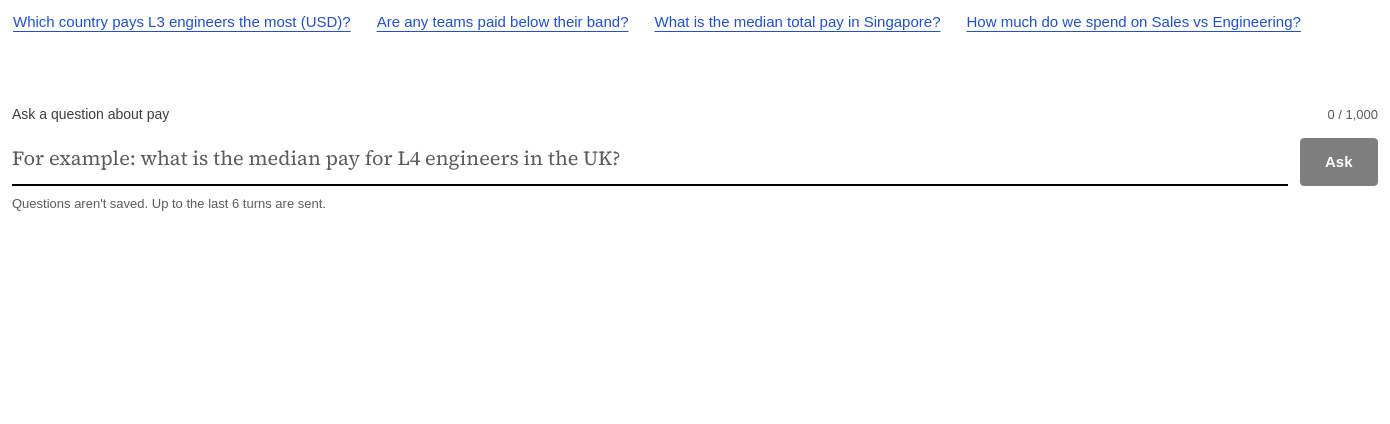
AskChat › shows that it is working while the answer is on its way
This screenshot has width=1390, height=424.
Clear the text box labelled "Ask a question about pay" at (650, 159), box 12,132 -> 1288,186
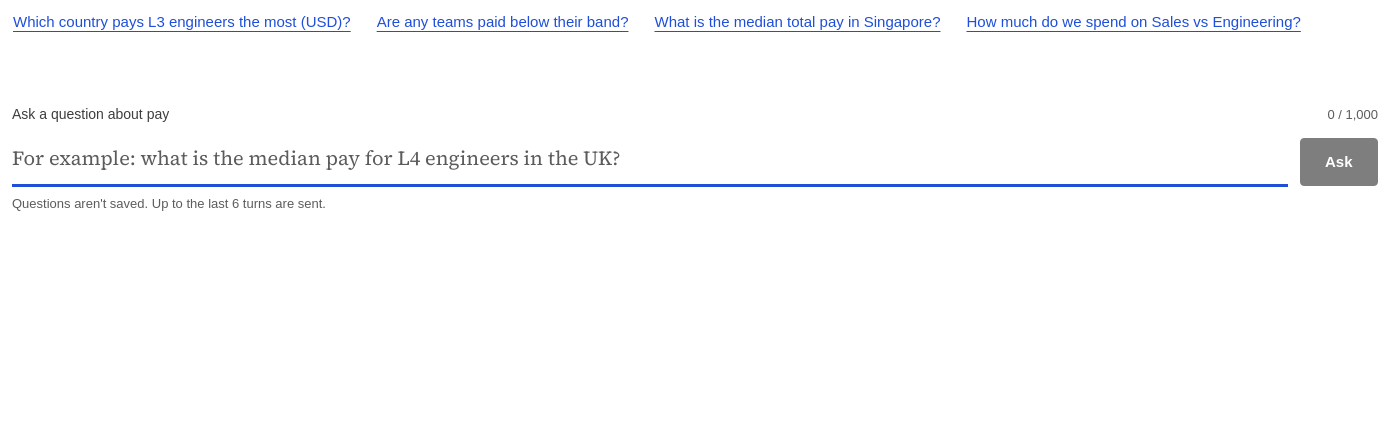
Type "Are we underpaying anyone in Germany?" into the text box labelled "Ask a question about pay" at (650, 160), box 12,132 -> 1288,187
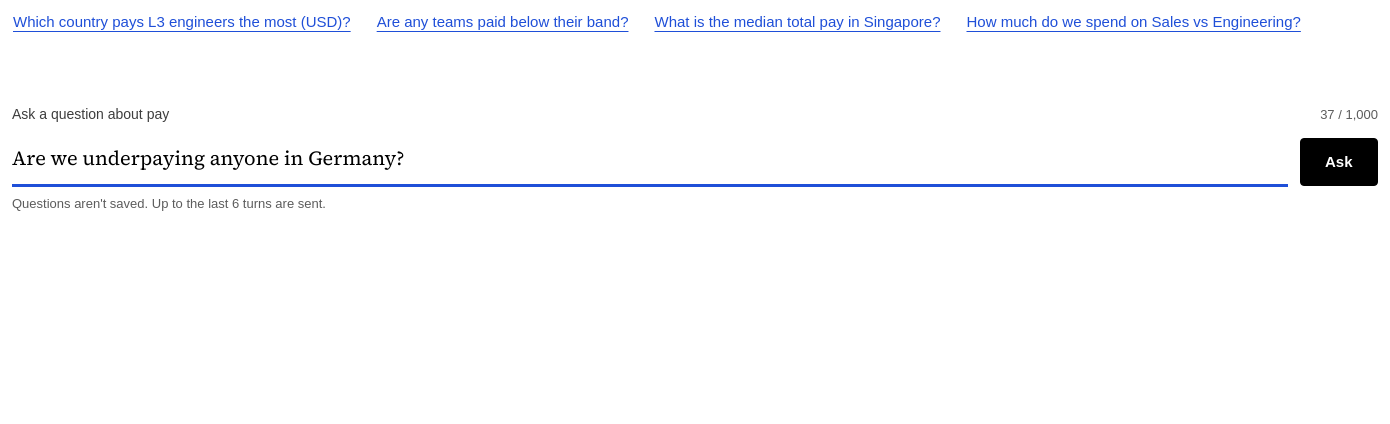
Click the button "Ask" at (1339, 162), box 1300,138 -> 1378,186
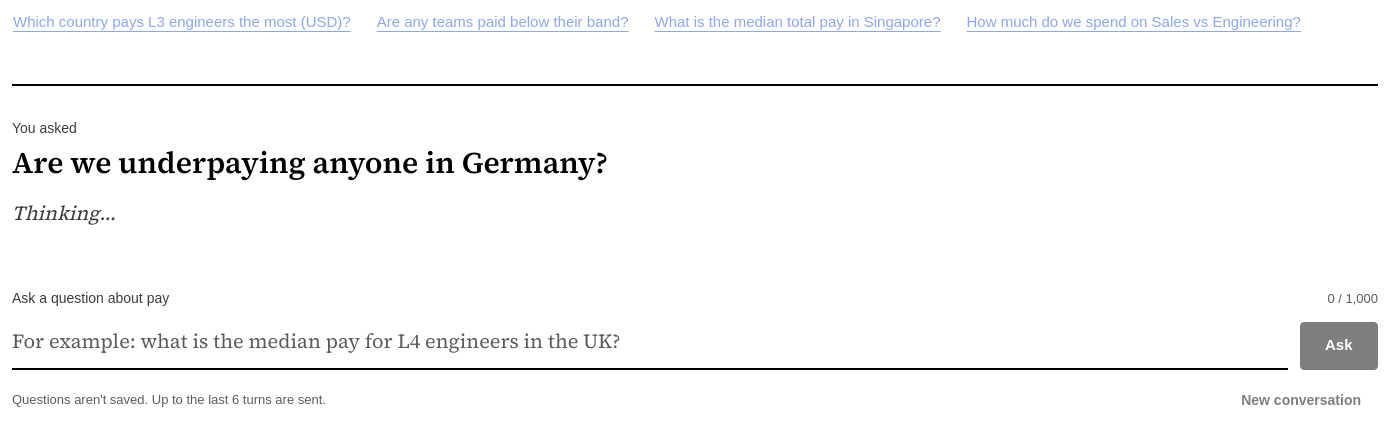
expect the message reads "Thinking…": met, box 12,198 -> 116,226
expect the button "Ask" is disabled: met, box 1300,322 -> 1378,370
expect the heading "Are we underpaying anyone in Germany?" is shown: met, box 12,142 -> 608,183
